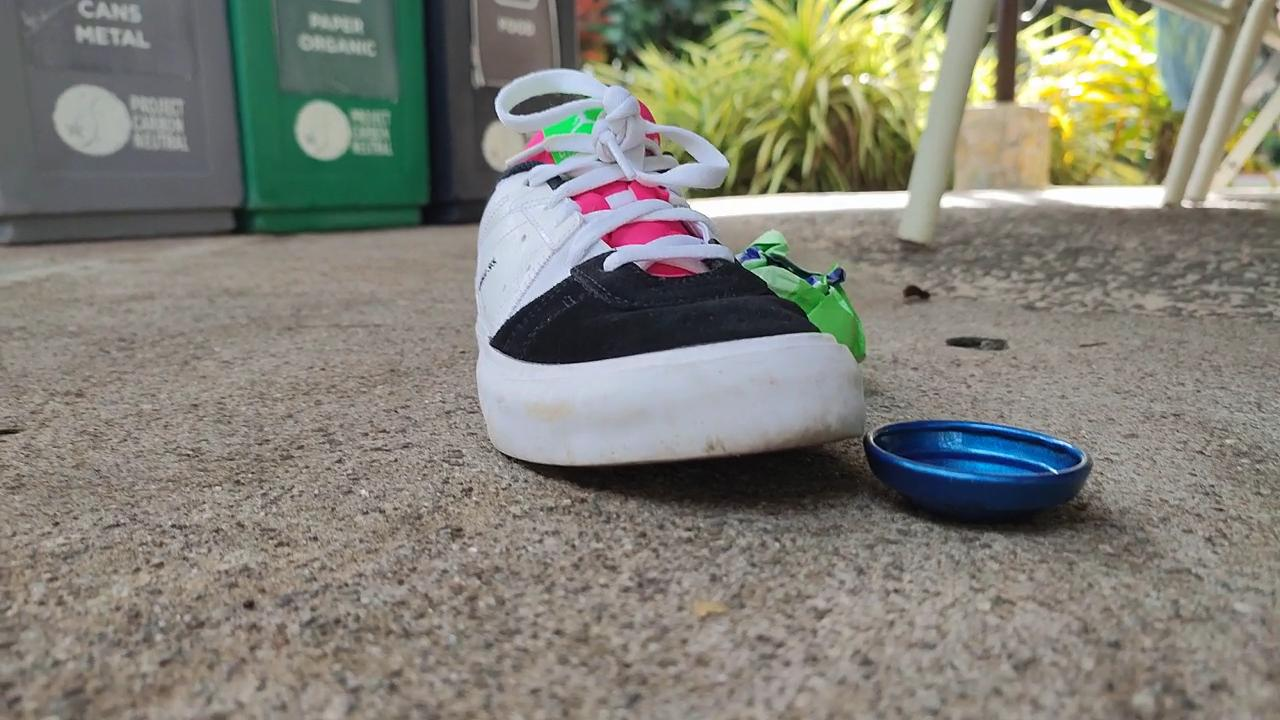Paper: (734, 208, 874, 374)
